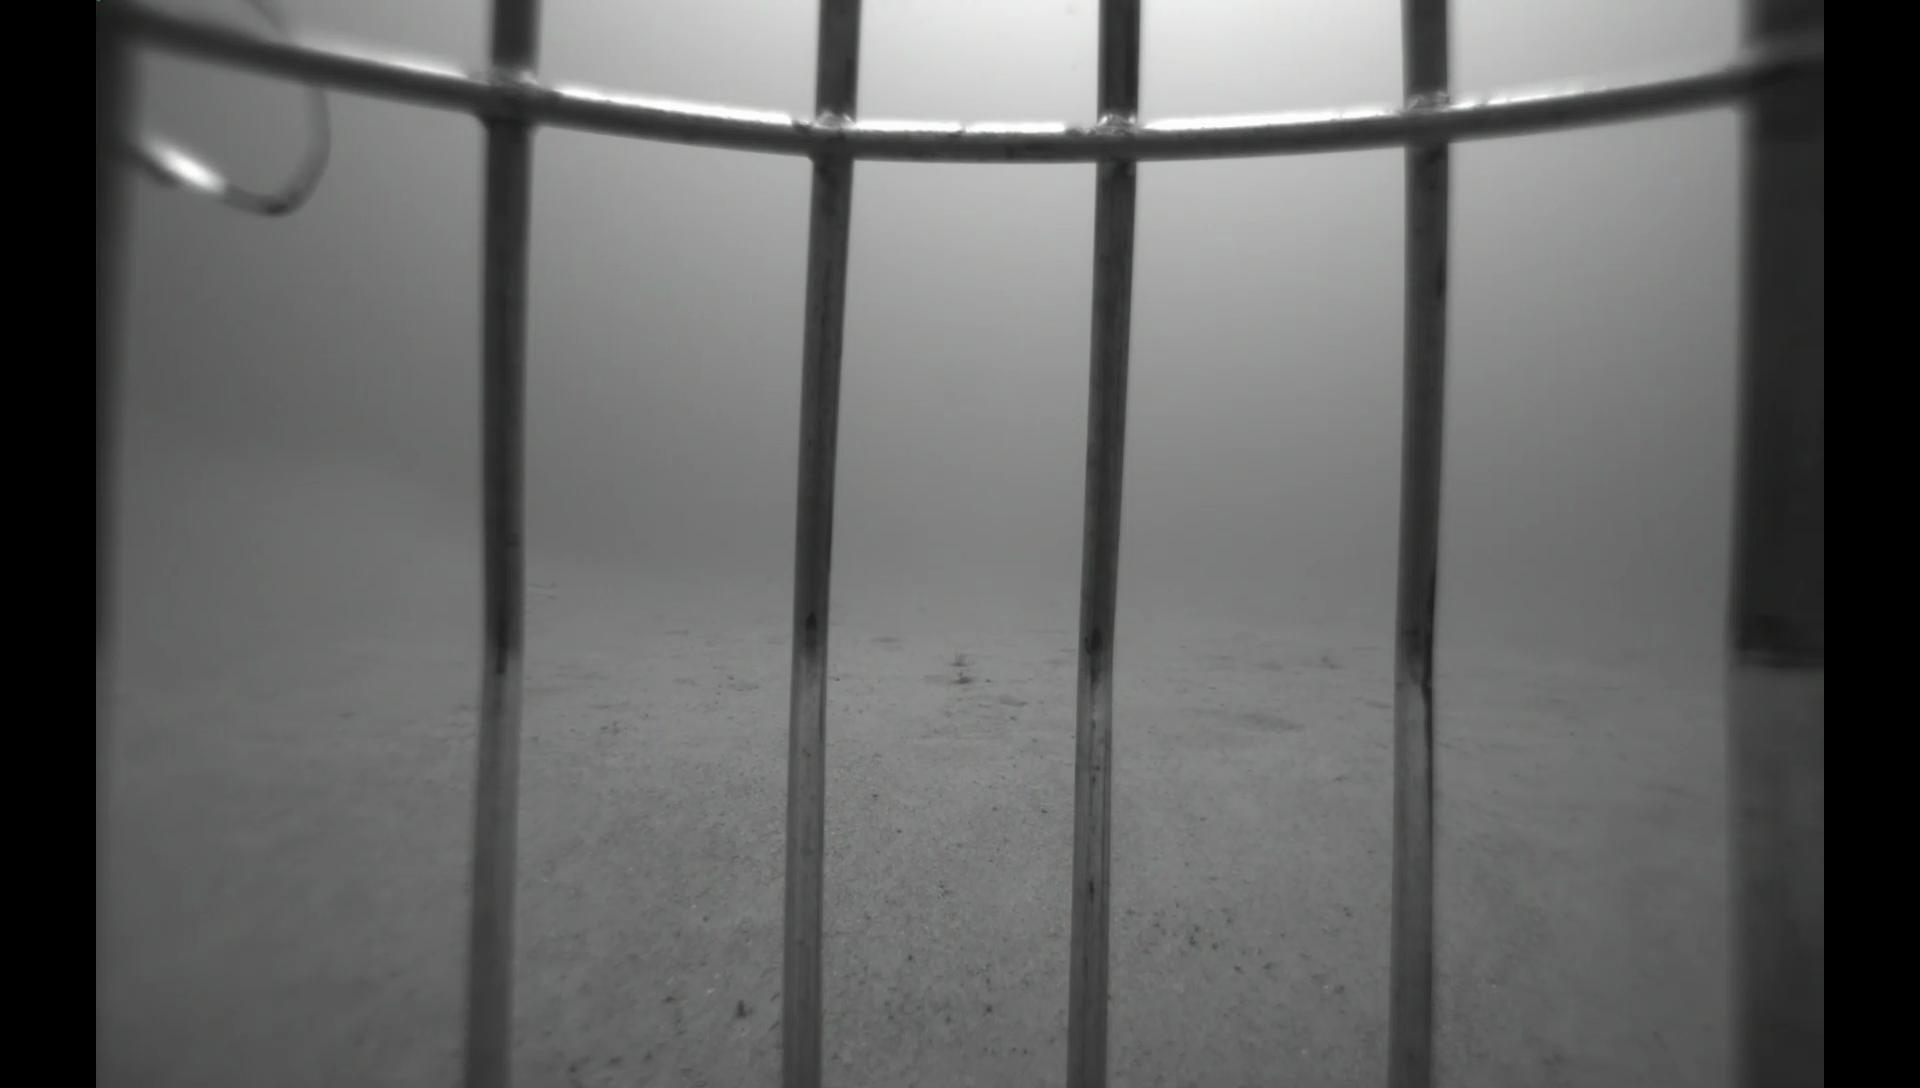CAULOLATILUSCYANOPS-170070101: (525, 575, 559, 619)
